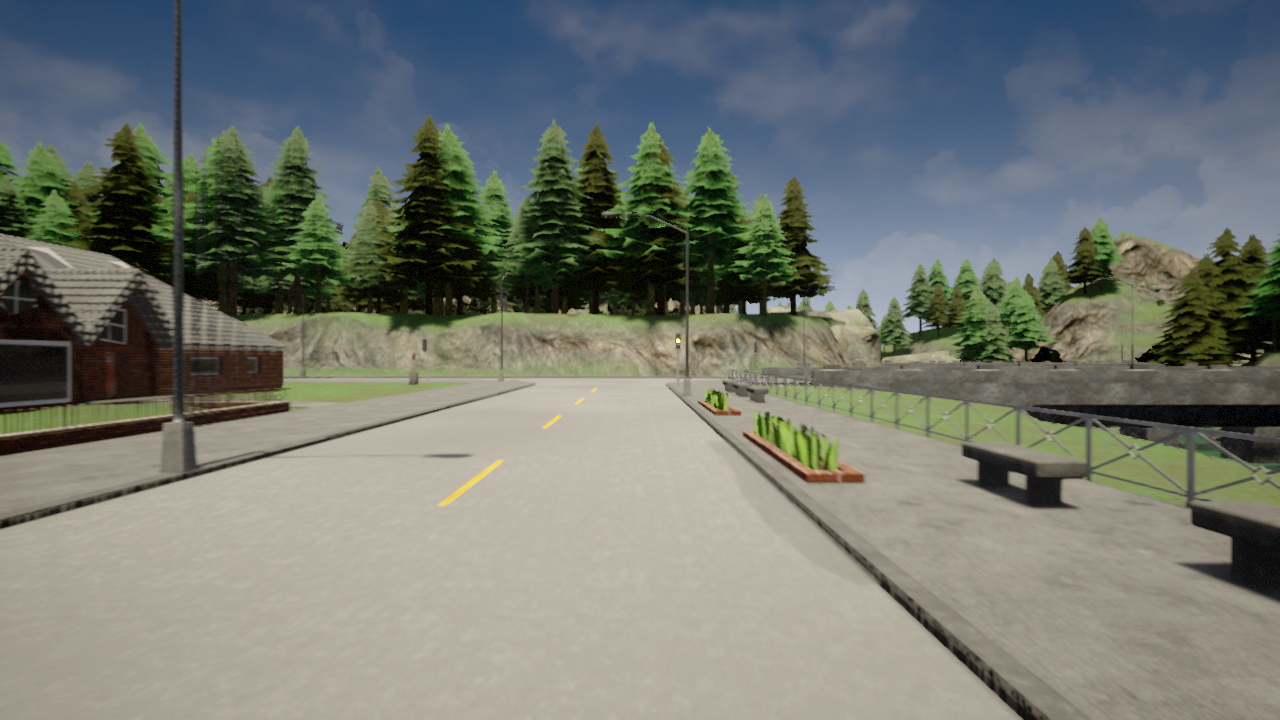yellow: (674, 333, 681, 350)
